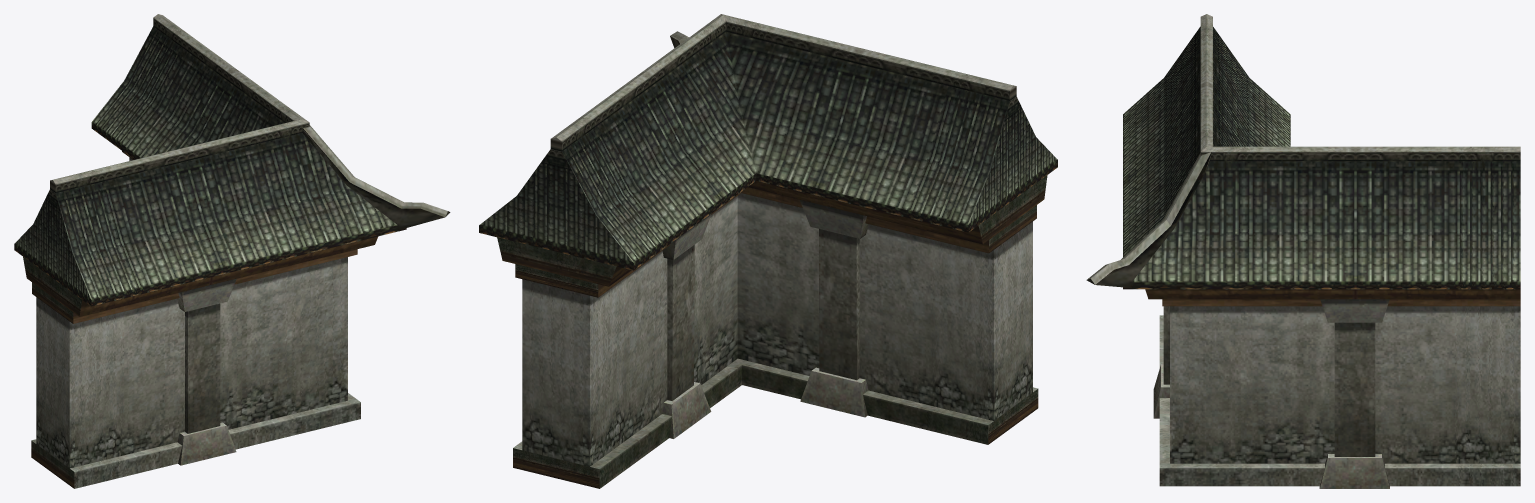
Rendered from c1-038-wall-corner.fbx.
3 renders of one model, left to right at view 1: azimuth 30°, elevation 25°; view 2: azimuth 150°, elevation 25°; view 3: azimuth 270°, elevation 25°, orthographic. The views are drawn at different scales.
Parts seen in each view (by area): view 1: Object01; view 2: Object01; view 3: Object01.
Boxes of the visible parts, bbox=[...] form: Object01: bbox=[14, 14, 450, 488]; Object01: bbox=[479, 14, 1057, 488]; Object01: bbox=[1086, 14, 1520, 488].
Bounding box in the file's own units: 5.56 × 4.5 × 5.54.
